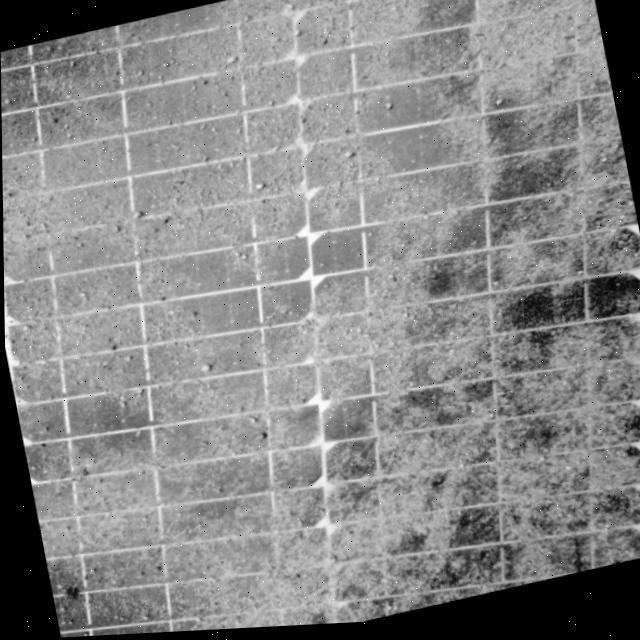Surface Contaminant: (1, 0, 640, 637)
